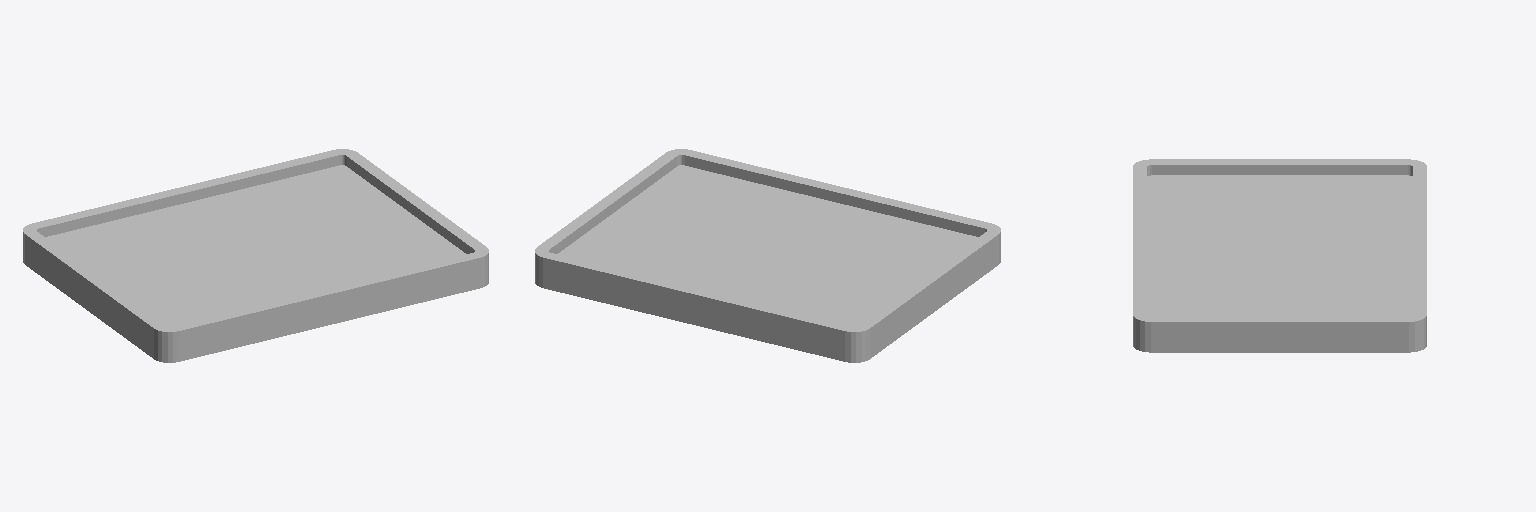
The model's file is Board.obj.
3 views of the same model, side by side, from view 1: azimuth 30°, elevation 25°; view 2: azimuth 150°, elevation 25°; view 3: azimuth 270°, elevation 25° (orthographic).
Visible parts, largest first — view 1: Cube; view 2: Cube; view 3: Cube.
Part boxes in pixels (x1,y1,x2,y2): Cube: (23,149,488,362); Cube: (535,149,1000,362); Cube: (1133,159,1426,352).
Bounding box in the file's own units: 17 × 1.5 × 13.